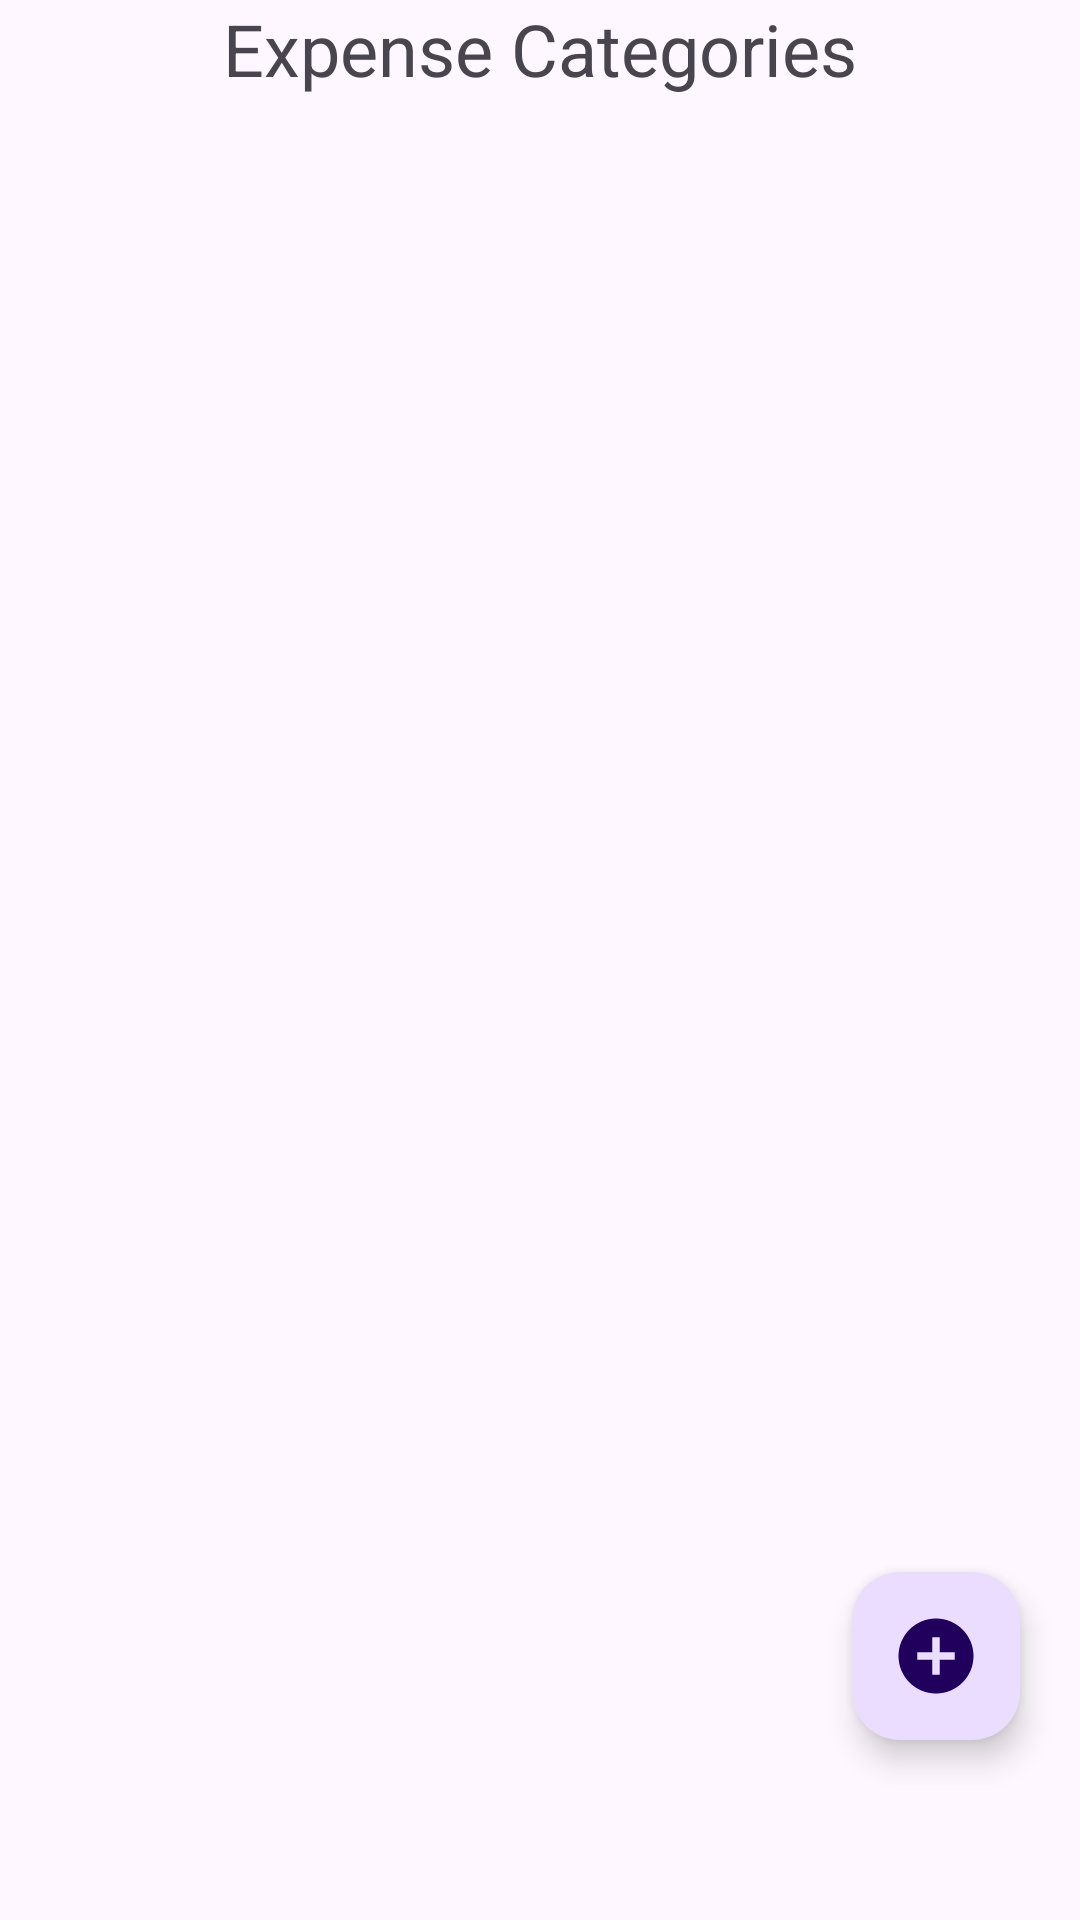

Screen size 1080 x 1920. Icon name, then its center in pixels as (x,y):
add circle: (936,1656)
